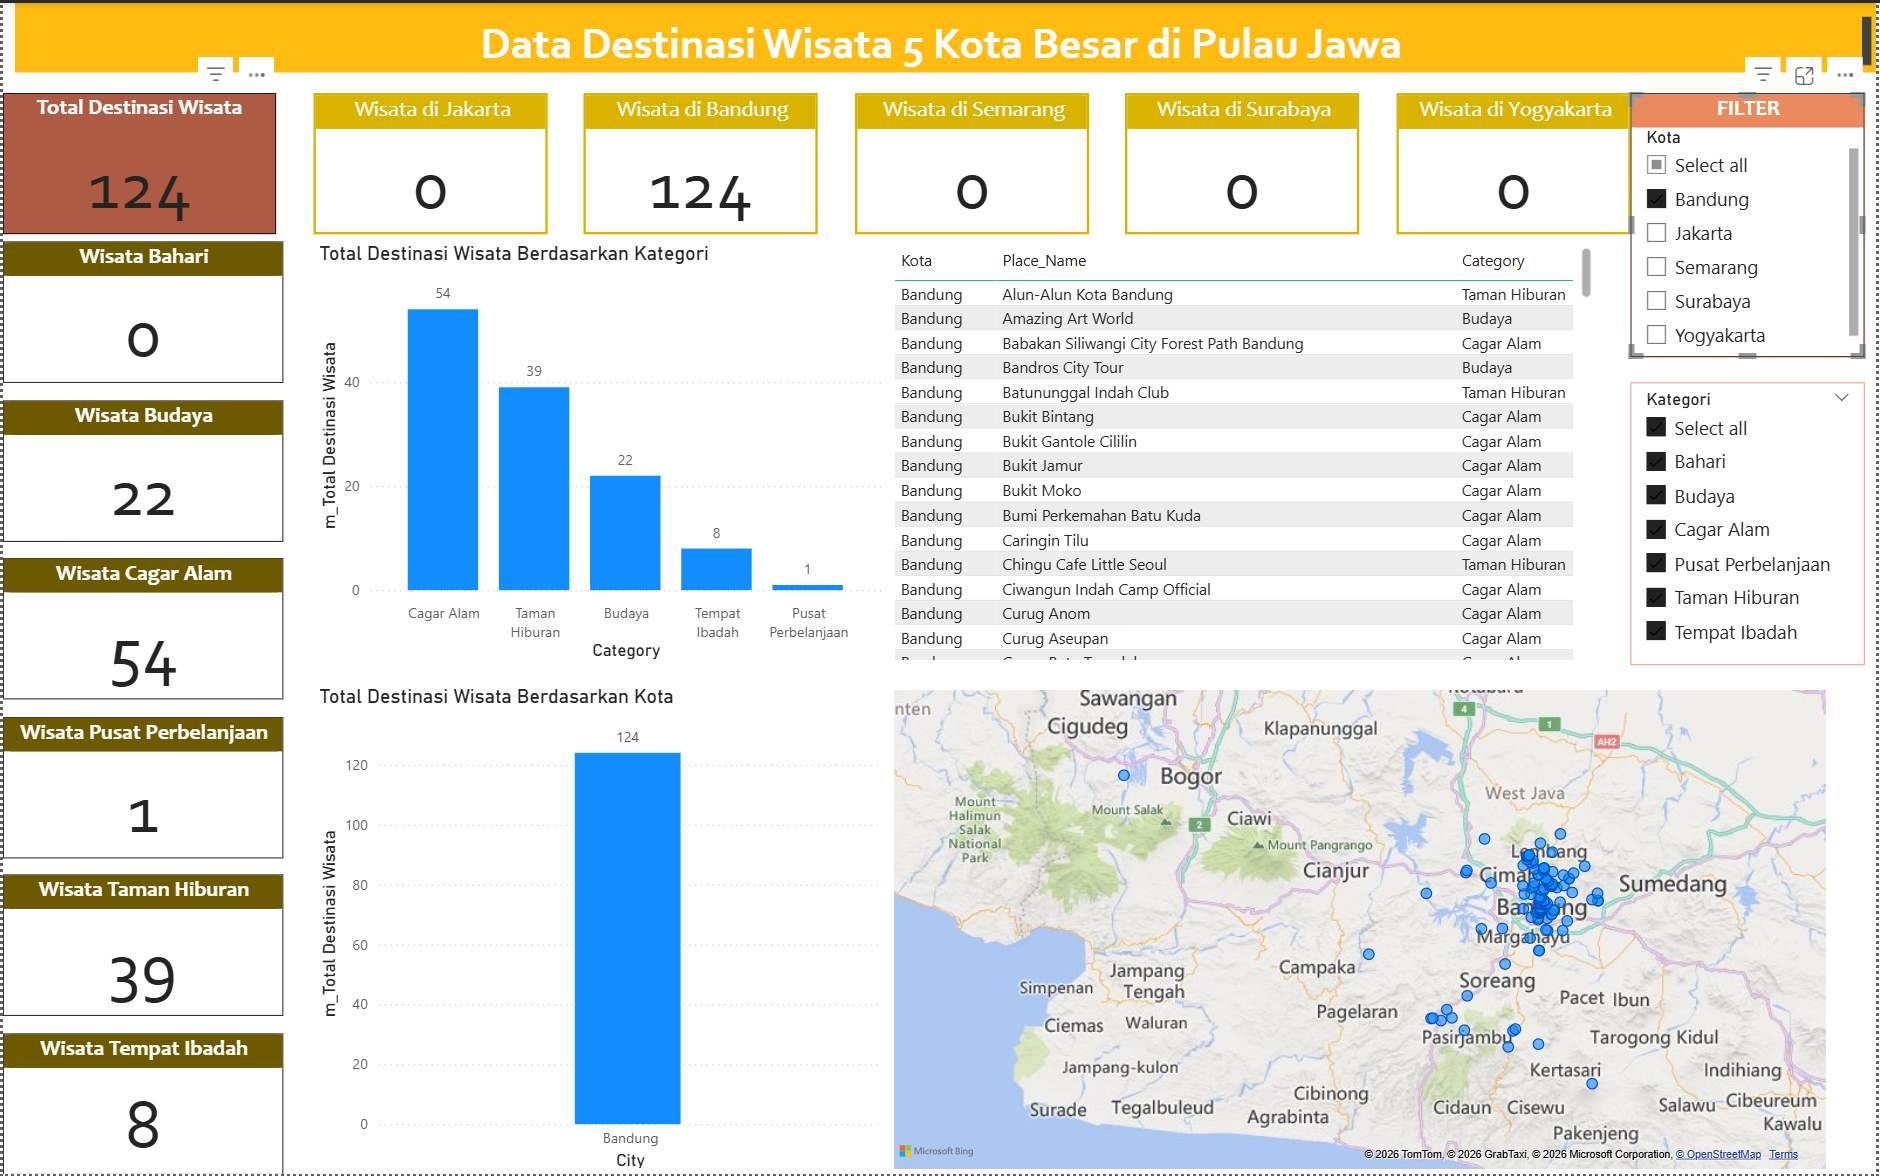

The dashboard page shown, as its layout file describes it:
{"tool":"powerbi","page":{"name":"Depan","canvas":[1600,1000],"ordinal":0},"visuals":[{"type":"shape","box":[10.1,0,1590.4,59.4],"z":0},{"type":"textbox","box":[10.1,5.8,1590.4,53.6],"z":1000},{"type":"slicer","fields":{"Values":["Kategori.Kategori"]},"box":[1390,324.3,200,241.4],"z":2000},{"type":"card","title":"Wisata di Jakarta","fields":{"Values":["tourism_with_id.Jumlah Wisata di Jakart"]},"box":[264.7,76.9,199.8,120.4],"z":3000},{"type":"card","title":"Wisata di Bandung","fields":{"Values":["tourism_with_id.Jumlah Wisata di Bandung"]},"box":[496,76.9,199.8,120.4],"z":4000},{"type":"card","title":"Wisata di Semarang","fields":{"Values":["tourism_with_id.Jumlah Wisata di Semarang"]},"box":[727.4,76.9,199.8,120.4],"z":5000},{"type":"card","title":"Wisata di Surabaya","fields":{"Values":["tourism_with_id.Jumlah Wisata di Surabaya"]},"box":[958.7,76.9,199.8,120.4],"z":6000},{"type":"card","title":"Wisata di Yogyakarta","fields":{"Values":["tourism_with_id.Jumlah Wisata di Yogyakarta"]},"box":[1190,76.9,199.8,120.4],"z":7000},{"type":"card","title":"Wisata Bahari","fields":{"Values":["tourism_with_id.Wisata Bahari"]},"box":[0,204,239.5,120.4],"z":8000},{"type":"card","title":"Wisata Budaya","fields":{"Values":["tourism_with_id.Wisata Budaya"]},"box":[0,339.2,239.5,120.4],"z":9000},{"type":"card","title":"Wisata Cagar Alam","fields":{"Values":["tourism_with_id.Wisata Cagar Alam"]},"box":[0,474.4,239.5,120.4],"z":10000},{"type":"card","title":"Wisata Pusat Perbelanjaan","fields":{"Values":["tourism_with_id.Wisata Pusat Perbelanjaan"]},"box":[0,609.6,239.5,120.4],"z":11000},{"type":"card","title":"Wisata Taman Hiburan","fields":{"Values":["tourism_with_id.Wisata Taman Hiburan"]},"box":[0,744.8,239.5,120.4],"z":12000},{"type":"card","title":"Wisata Tempat Ibadah","fields":{"Values":["tourism_with_id.Wisata Tempat Ibadah"]},"box":[0,879.6,239.5,120.4],"z":13000},{"type":"card","title":"Total Destinasi Wisata","fields":{"Values":["tourism_with_id.m_Total Destinasi Wisata"]},"box":[0,76.9,233.2,120.4],"z":14000},{"type":"slicer","title":"FILTER","fields":{"Values":["Kota.Kota"]},"box":[1390,77.1,200,225.7],"z":15000},{"type":"tableEx","fields":{"Values":["Kota.Kota","tourism_with_id.Place_Name","tourism_with_id.Category"]},"box":[755.7,204.3,605.7,361.4],"z":16000},{"type":"map","fields":{"Y":["tourism_with_id.Lat"],"X":["tourism_with_id.Long"]},"box":[755.7,581.4,807.1,418.6],"z":17000},{"type":"clusteredColumnChart","fields":{"Y":["tourism_with_id.m_Total Destinasi Wisata"],"Category":["tourism_with_id.Category"]},"box":[265.7,204.3,490,361.4],"z":18000},{"type":"clusteredColumnChart","fields":{"Y":["tourism_with_id.m_Total Destinasi Wisata"],"Category":["tourism_with_id.City"]},"box":[265.7,581.4,490,418.6],"z":19000}]}

Visuals, with their boxes on the page's 1600x1000 design canvas (x1, y1, x2, y2). These are canvas units, not pixel positions in the 1880x1176 screenshot, which may show the page scaled, cropped or inside an application window:
shape: rect(10, 0, 1600, 59)
textbox: rect(10, 6, 1600, 59)
slicer - Kategori.Kategori: rect(1390, 324, 1590, 566)
"Wisata di Jakarta" card: rect(265, 77, 464, 197)
"Wisata di Bandung" card: rect(496, 77, 696, 197)
"Wisata di Semarang" card: rect(727, 77, 927, 197)
"Wisata di Surabaya" card: rect(959, 77, 1158, 197)
"Wisata di Yogyakarta" card: rect(1190, 77, 1390, 197)
"Wisata Bahari" card: rect(0, 204, 240, 324)
"Wisata Budaya" card: rect(0, 339, 240, 460)
"Wisata Cagar Alam" card: rect(0, 474, 240, 595)
"Wisata Pusat Perbelanjaan" card: rect(0, 610, 240, 730)
"Wisata Taman Hiburan" card: rect(0, 745, 240, 865)
"Wisata Tempat Ibadah" card: rect(0, 880, 240, 1000)
"Total Destinasi Wisata" card: rect(0, 77, 233, 197)
"FILTER" slicer: rect(1390, 77, 1590, 303)
tableEx - Kota.Kota x tourism_with_id.Place_Name: rect(756, 204, 1361, 566)
map - tourism_with_id.Lat x tourism_with_id.Long: rect(756, 581, 1563, 1000)
clusteredColumnChart - tourism_with_id.m_Total Destinasi Wisata x tourism_with_id.Category: rect(266, 204, 756, 566)
clusteredColumnChart - tourism_with_id.m_Total Destinasi Wisata x tourism_with_id.City: rect(266, 581, 756, 1000)
